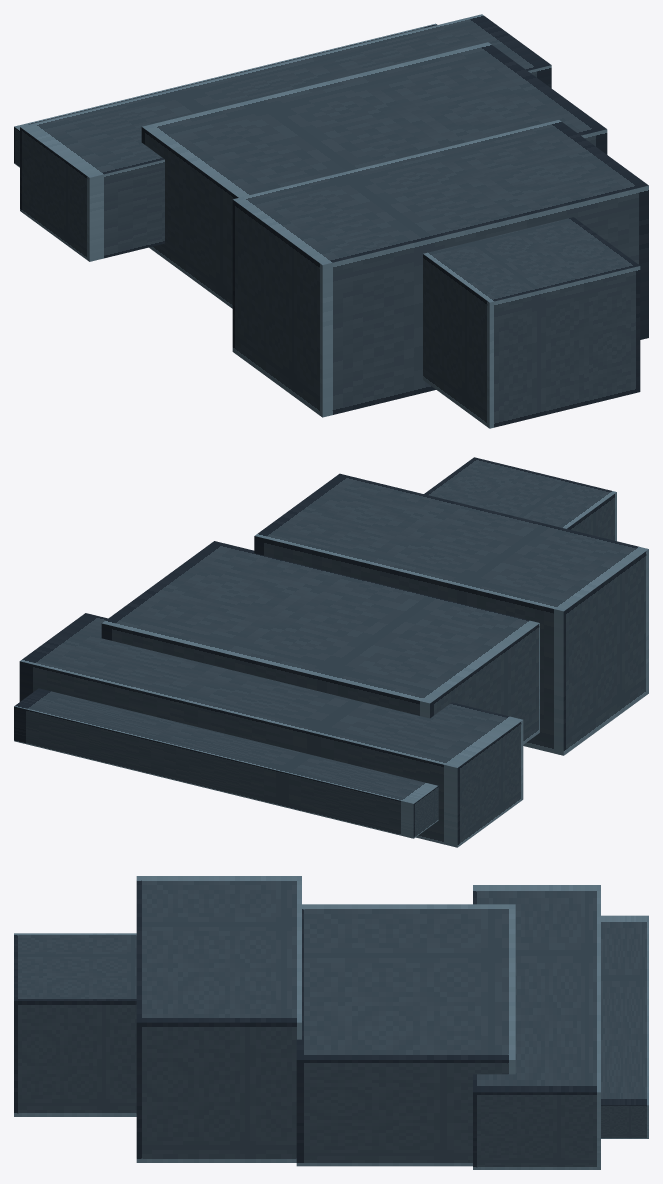
The model's file is bench_axe_2.obj.
3 views of the same model, one above another, from view 1: azimuth 30°, elevation 25°; view 2: azimuth 150°, elevation 25°; view 3: azimuth 270°, elevation 25° (orthographic). The views are drawn at different scales.
Parts seen in each view (by area): view 1: geometry; view 2: geometry; view 3: geometry.
Part boxes in pixels (x1,y1,x2,y2): geometry: (14, 14, 648, 428); geometry: (14, 457, 648, 847); geometry: (14, 876, 648, 1169).
Size of the model in its own units: 0.5798 by 0.1828 by 0.75.
